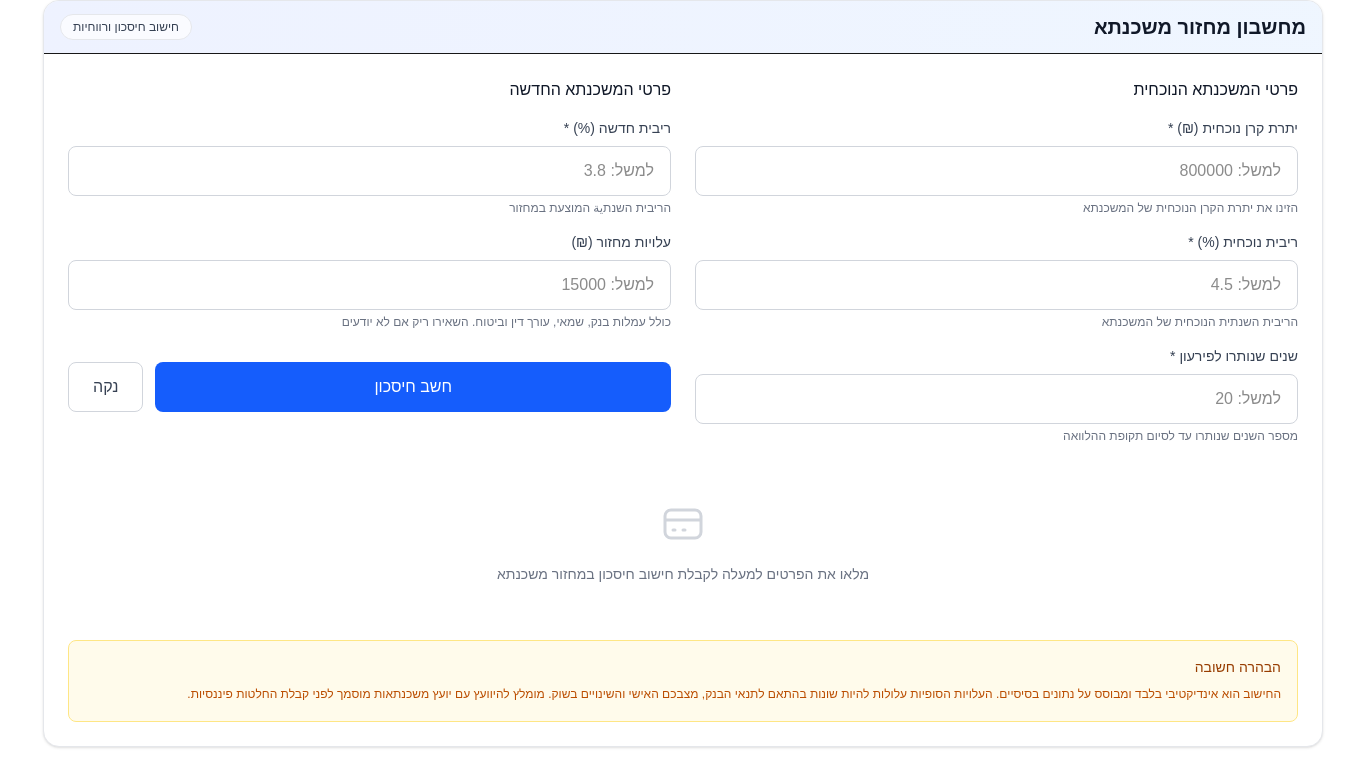
MortgageRefinanceCalculatorEnhanced › Form Validation › validates required fields
Click the button "חשב חיסכון".
click(413, 387)  # box [156,362,671,412]
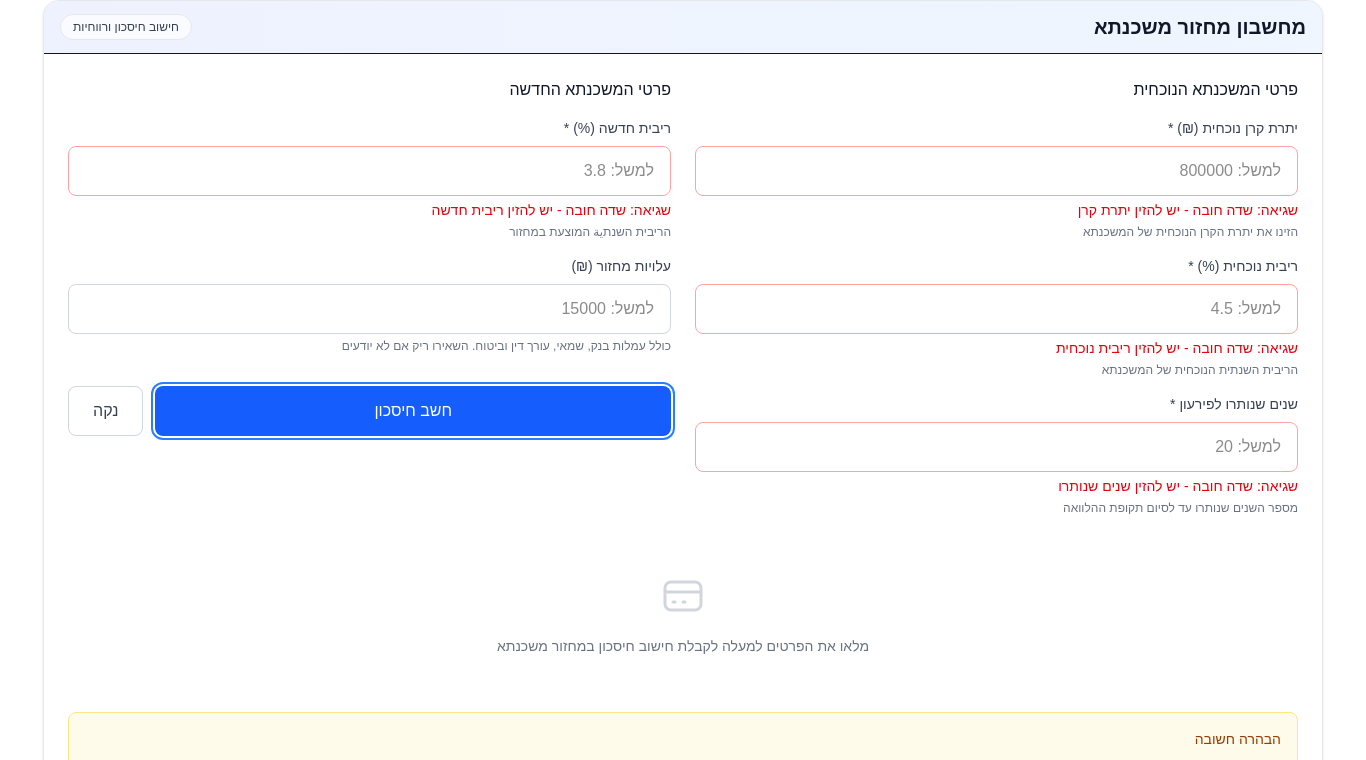
Check: the text "שגיאה: שדה חובה - יש להזין יתרת קרן" is shown, box [1078,202,1298,218]
Check: the text "שגיאה: שדה חובה - יש להזין ריבית נוכחית" is shown, box [1056,340,1298,356]
Check: the text "שגיאה: שדה חובה - יש להזין ריבית חדשה" is shown, box [432,202,671,218]
